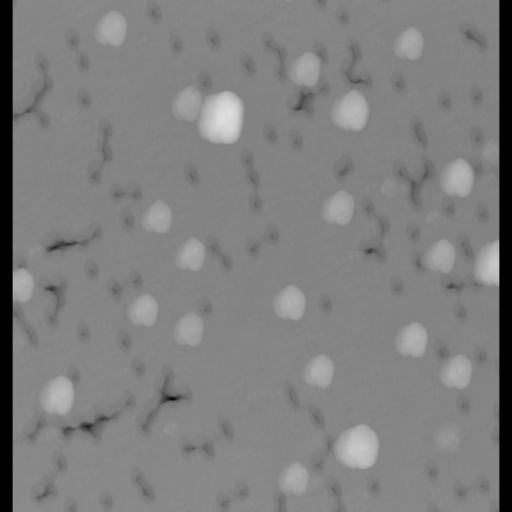Hole: (13, 53, 53, 138), (80, 386, 136, 441), (39, 219, 102, 258), (446, 467, 493, 505), (41, 267, 74, 321), (405, 155, 436, 212), (84, 124, 111, 189), (151, 367, 194, 407), (339, 32, 371, 84), (364, 202, 390, 265), (239, 221, 282, 259), (262, 26, 287, 85), (240, 151, 263, 215), (13, 310, 44, 352), (216, 473, 248, 511), (404, 112, 435, 148), (211, 233, 237, 274), (131, 464, 158, 502), (179, 437, 220, 462), (29, 478, 60, 511), (446, 279, 467, 323), (459, 20, 485, 54), (408, 219, 422, 278), (139, 396, 160, 435), (199, 25, 225, 54), (289, 91, 315, 119), (180, 158, 203, 189), (325, 474, 344, 511), (45, 449, 70, 476), (110, 180, 142, 201), (303, 400, 324, 429), (333, 154, 355, 180), (279, 380, 298, 410), (23, 419, 45, 444), (457, 225, 473, 259), (216, 415, 236, 442), (239, 47, 258, 75), (422, 456, 443, 481), (71, 53, 92, 76), (121, 204, 138, 231), (106, 273, 123, 300), (143, 0, 161, 24), (270, 494, 295, 511), (364, 473, 385, 493), (82, 258, 101, 280), (56, 420, 75, 442), (468, 124, 484, 150), (336, 0, 353, 24), (132, 353, 147, 379), (438, 85, 454, 109), (167, 32, 186, 52), (469, 78, 484, 103), (410, 500, 444, 511), (112, 335, 138, 349), (476, 200, 491, 224), (264, 122, 280, 144), (63, 30, 81, 49), (392, 71, 409, 91), (287, 127, 305, 145), (441, 198, 457, 218), (455, 394, 469, 416), (76, 89, 95, 105), (73, 322, 89, 341), (390, 276, 404, 297), (100, 488, 116, 506), (435, 338, 448, 360), (320, 290, 333, 311), (63, 495, 79, 511), (311, 0, 333, 11), (129, 266, 143, 283), (202, 293, 215, 311), (477, 342, 487, 364), (198, 68, 210, 85)
Particle: (169, 85, 249, 145), (332, 416, 387, 470), (313, 183, 360, 228), (267, 276, 313, 321), (35, 370, 78, 417), (328, 89, 373, 130), (435, 352, 481, 392), (297, 350, 343, 389), (390, 317, 433, 358), (390, 20, 431, 62), (284, 47, 325, 88), (439, 154, 478, 196), (93, 5, 131, 48), (169, 233, 209, 272), (475, 225, 499, 289), (121, 290, 160, 329), (167, 310, 208, 346), (275, 459, 313, 497), (425, 233, 461, 273), (429, 420, 463, 457), (140, 198, 174, 233), (13, 264, 36, 308), (485, 134, 499, 170), (377, 179, 397, 201), (161, 417, 182, 437), (424, 207, 440, 226), (257, 0, 307, 2)
